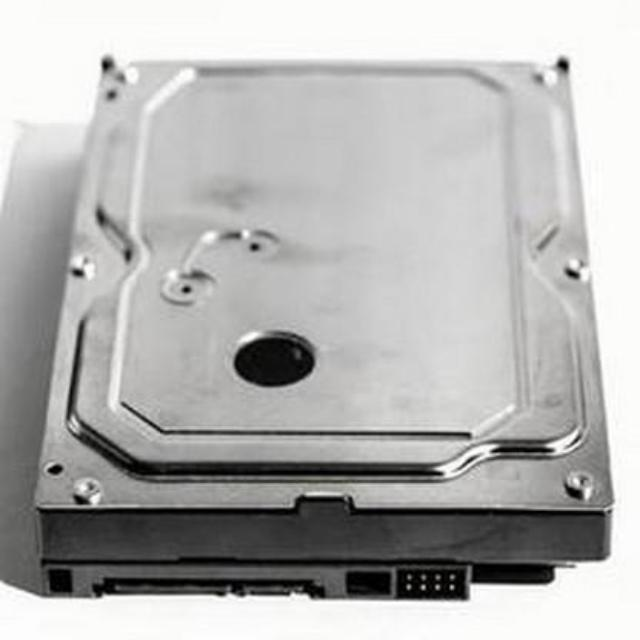DISK: (41, 45, 614, 606)
